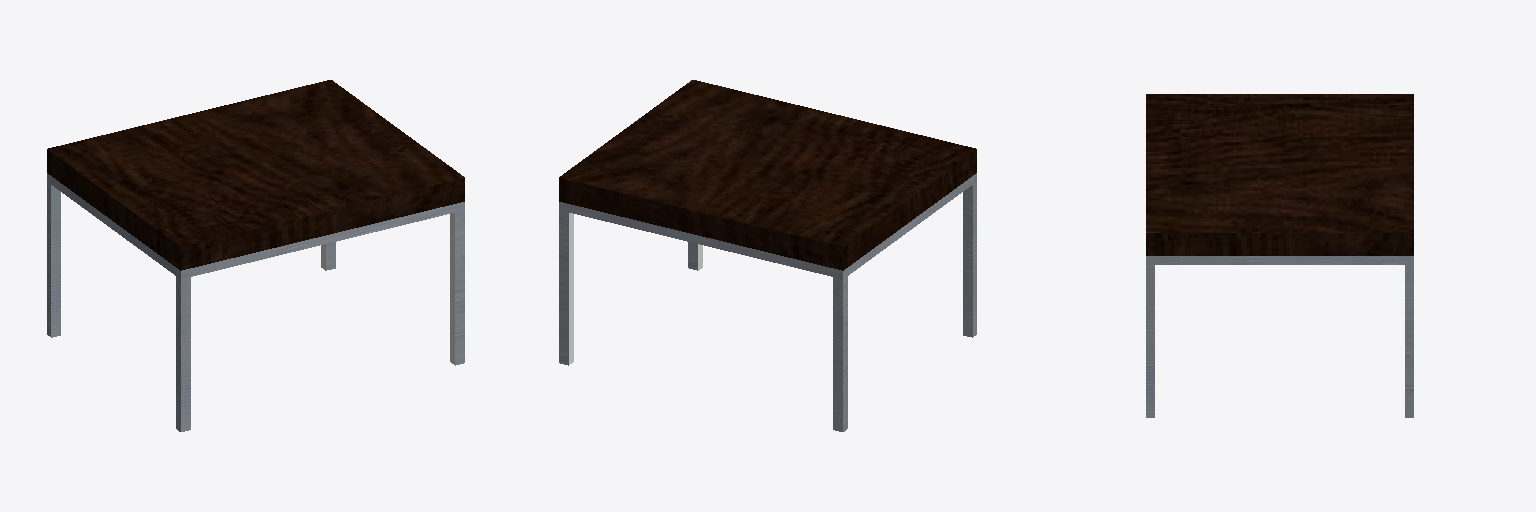
3 views of the same model, side by side, from view 1: azimuth 30°, elevation 25°; view 2: azimuth 150°, elevation 25°; view 3: azimuth 270°, elevation 25° (orthographic).
Visible parts, largest first — view 1: Mesh1 Component_2_1 Model; view 2: Mesh1 Component_2_1 Model; view 3: Mesh1 Component_2_1 Model.
Part boxes in pixels (left/top/right/bottom): Mesh1 Component_2_1 Model: left=47, top=80, right=464, bottom=431; Mesh1 Component_2_1 Model: left=559, top=80, right=976, bottom=431; Mesh1 Component_2_1 Model: left=1146, top=94, right=1413, bottom=417.
Size of the model in its own units: 26.26 by 16.35 by 21.44.
3 materials, 2 textured.